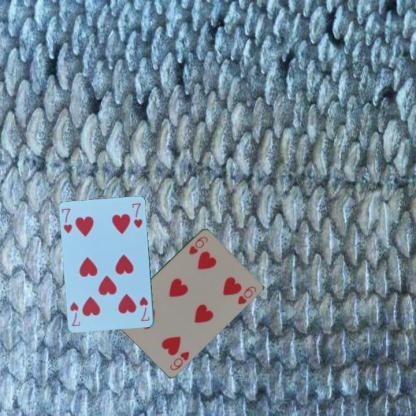6h: (186, 233, 209, 256), (168, 349, 191, 372)
7h: (60, 206, 74, 235), (137, 294, 151, 322)
